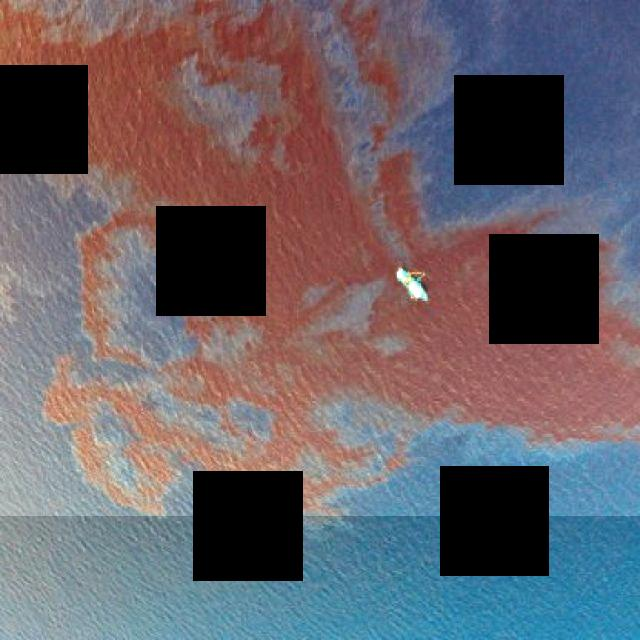oil spill: (0, 0, 640, 516)
